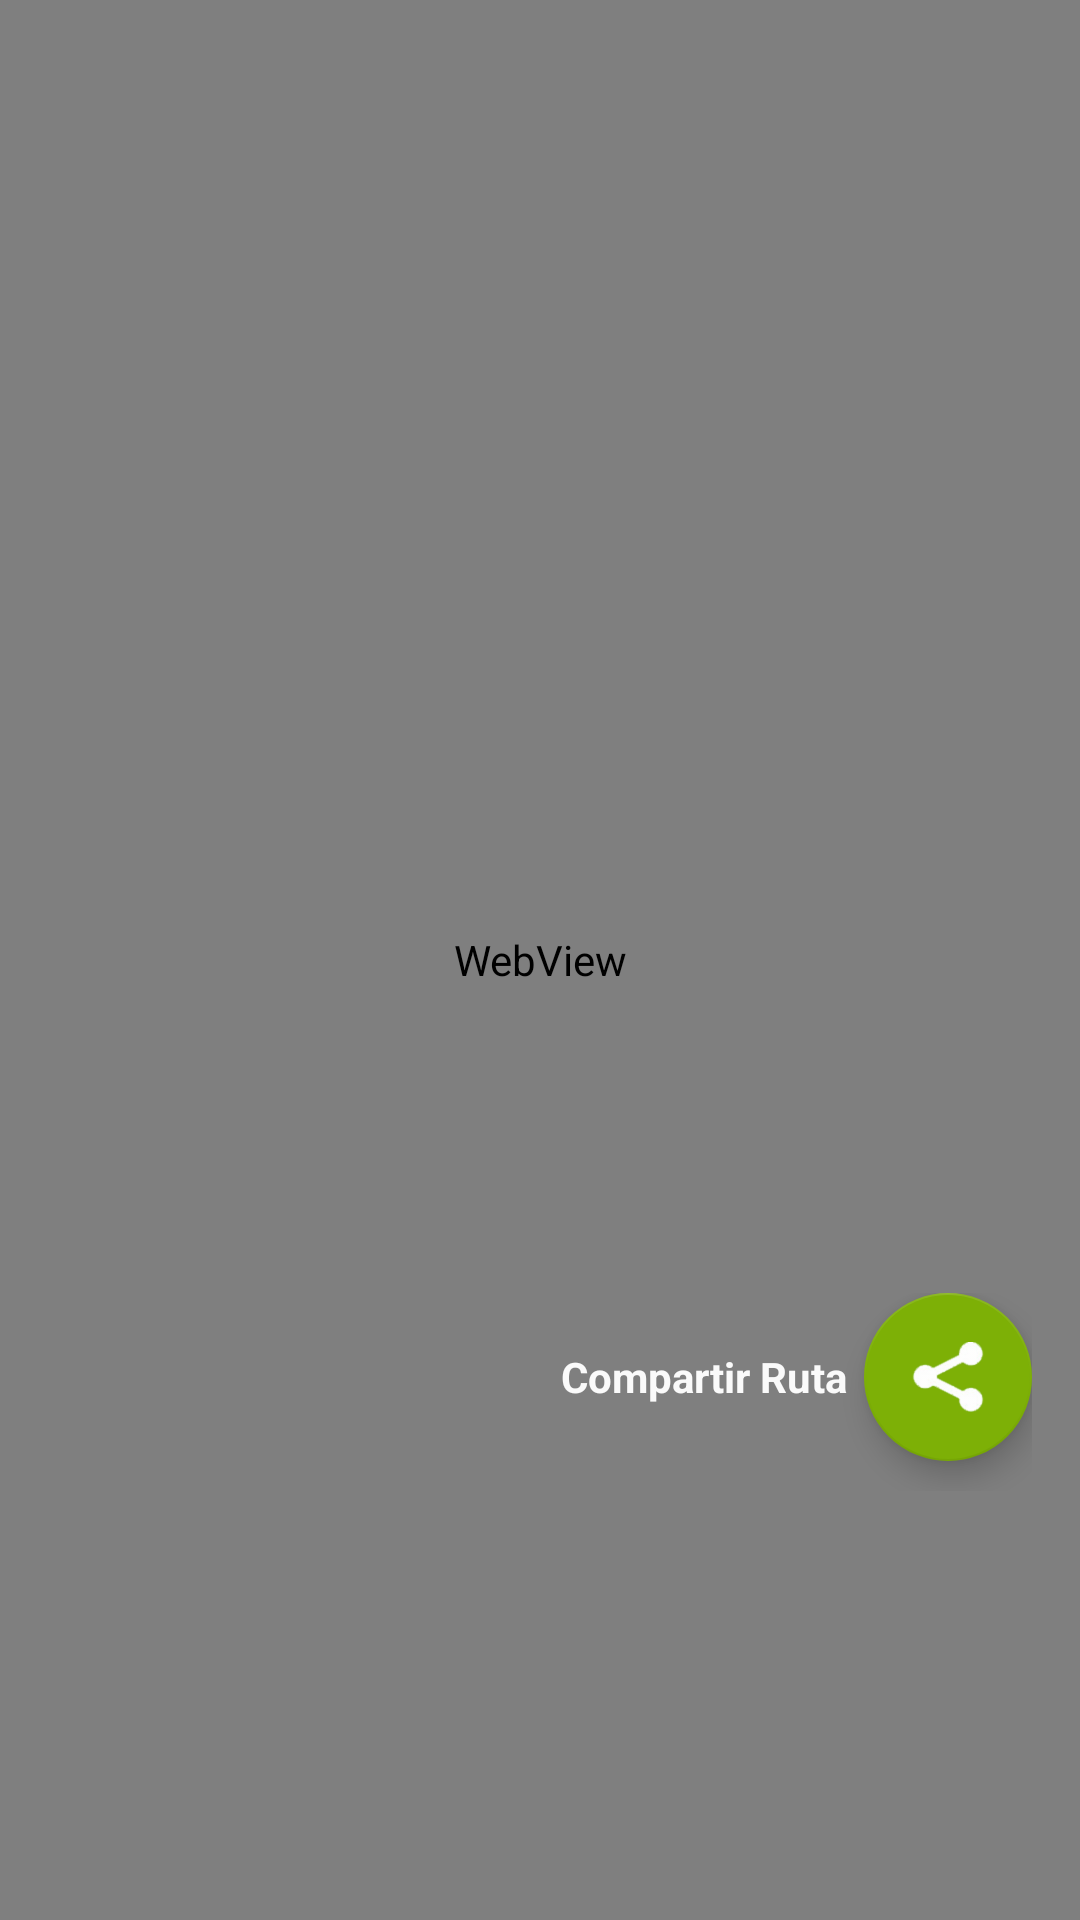

Where icons sit on this 1080×1920 app screen, as {"x1": x1, "y1": y1, "x2": x2, "y2": y2}:
share: {"x1": 864, "y1": 1293, "x2": 1032, "y2": 1461}
